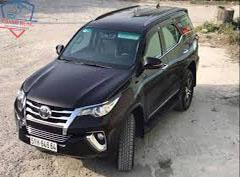car: (8, 0, 204, 170)
